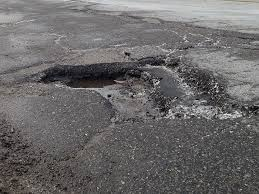pothole: (143, 55, 239, 125), (31, 60, 141, 89), (98, 87, 156, 121)
